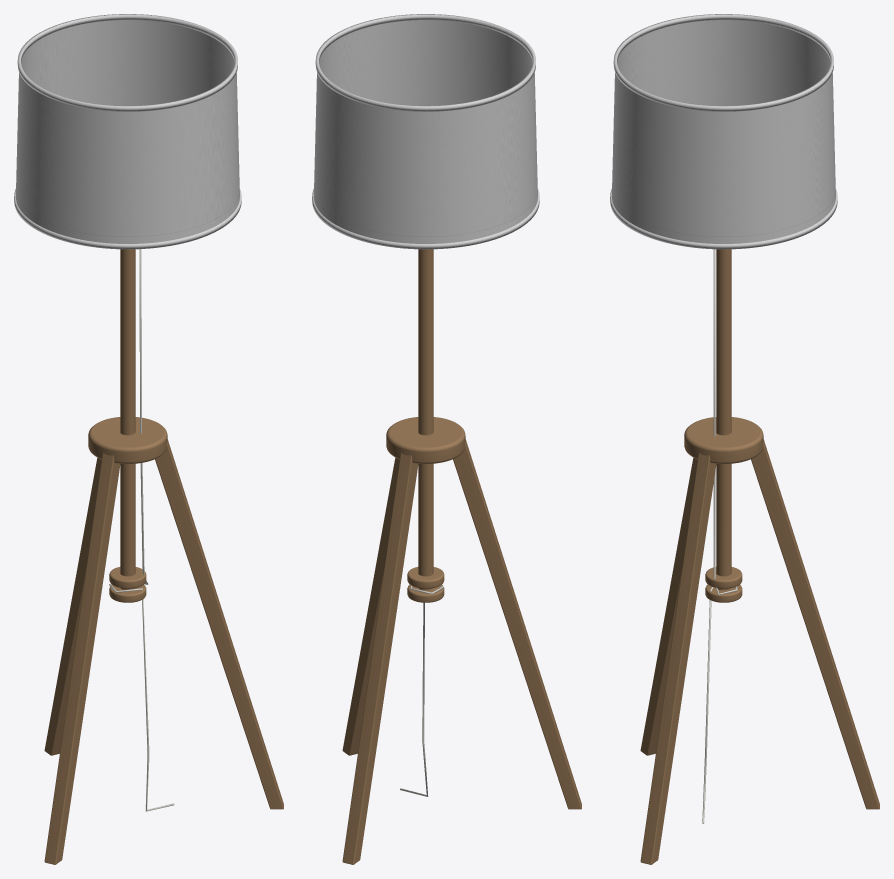
Rendered from floor-lamp-tripod.glb.
3 renders of one model, left to right at view 1: azimuth 30°, elevation 25°; view 2: azimuth 150°, elevation 25°; view 3: azimuth 270°, elevation 25°, orthographic.
Visible parts, largest first — view 1: Hollow woven shade, Flat ended solid ash tripod leg.001, Flat ended solid ash tripod leg.002, Continuous ash mast, Flat ended solid ash tripod leg, Bound lampshade edge.001, Tripod junction disc, Bound lampshade edge, Flex along rear mast, Flex storage reel.001; view 2: Hollow woven shade, Flat ended solid ash tripod leg, Flat ended solid ash tripod leg.001, Continuous ash mast, Flat ended solid ash tripod leg.002, Bound lampshade edge.001, Tripod junction disc, Bound lampshade edge, Flex along rear mast, Flex storage reel.001; view 3: Hollow woven shade, Flat ended solid ash tripod leg.002, Flat ended solid ash tripod leg, Continuous ash mast, Flat ended solid ash tripod leg.001, Bound lampshade edge.001, Tripod junction disc, Flex along rear mast, Bound lampshade edge, Flex storage reel.001.
Part boxes in pixels (x1=…): Hollow woven shade: x1=15, y1=14, x2=239, y2=243; Flat ended solid ash tripod leg.001: x1=44, y1=452, x2=120, y2=864; Flat ended solid ash tripod leg.002: x1=155, y1=439, x2=283, y2=809; Continuous ash mast: x1=120, y1=249, x2=135, y2=590; Flat ended solid ash tripod leg: x1=44, y1=457, x2=101, y2=755; Bound lampshade edge.001: x1=17, y1=14, x2=237, y2=111; Tripod junction disc: x1=88, y1=417, x2=167, y2=463; Bound lampshade edge: x1=14, y1=188, x2=241, y2=249; Flex along rear mast: x1=109, y1=249, x2=174, y2=811; Flex storage reel.001: x1=109, y1=567, x2=146, y2=588; Hollow woven shade: x1=313, y1=14, x2=537, y2=243; Flat ended solid ash tripod leg: x1=342, y1=452, x2=418, y2=864; Flat ended solid ash tripod leg.001: x1=453, y1=439, x2=581, y2=809; Continuous ash mast: x1=418, y1=249, x2=433, y2=590; Flat ended solid ash tripod leg.002: x1=342, y1=457, x2=399, y2=755; Bound lampshade edge.001: x1=315, y1=14, x2=535, y2=111; Tripod junction disc: x1=386, y1=417, x2=465, y2=463; Bound lampshade edge: x1=312, y1=188, x2=539, y2=249; Flex along rear mast: x1=400, y1=585, x2=443, y2=796; Flex storage reel.001: x1=407, y1=567, x2=444, y2=588; Hollow woven shade: x1=611, y1=14, x2=835, y2=243; Flat ended solid ash tripod leg.002: x1=640, y1=452, x2=716, y2=864; Flat ended solid ash tripod leg: x1=751, y1=439, x2=879, y2=809; Continuous ash mast: x1=716, y1=249, x2=731, y2=590; Flat ended solid ash tripod leg.001: x1=640, y1=457, x2=697, y2=755; Bound lampshade edge.001: x1=613, y1=14, x2=833, y2=111; Tripod junction disc: x1=684, y1=417, x2=763, y2=463; Flex along rear mast: x1=702, y1=249, x2=737, y2=823; Bound lampshade edge: x1=610, y1=188, x2=837, y2=249; Flex storage reel.001: x1=705, y1=567, x2=742, y2=588.
Bounding box in the file's own units: 0.5362 × 1.6 × 0.524.
5 materials, 1 textured.
